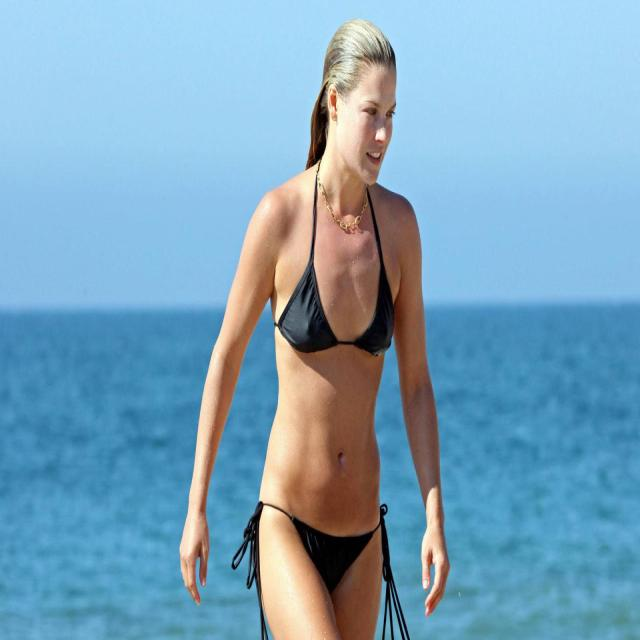no-earmuff: (319, 72, 349, 130)
